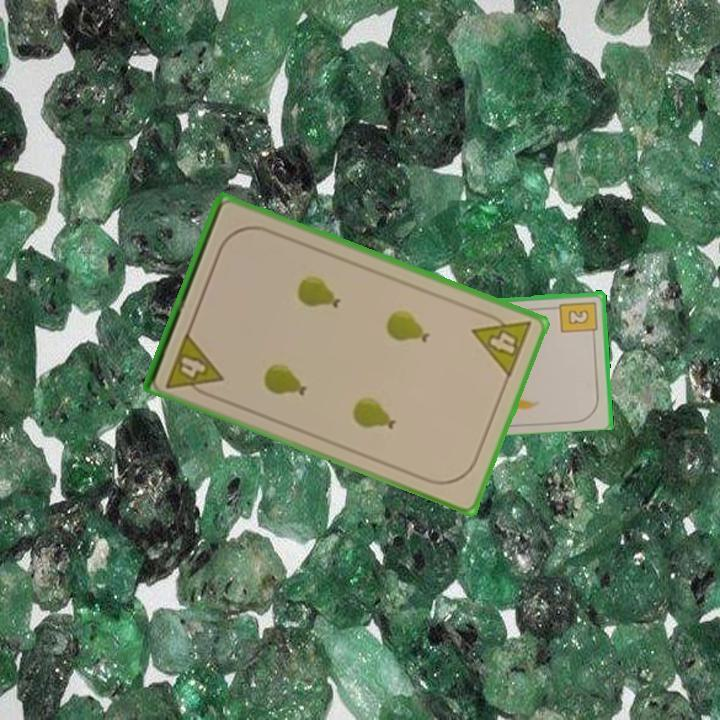2b: (557, 298, 600, 340)
4p: (469, 306, 535, 381), (162, 328, 226, 402)
